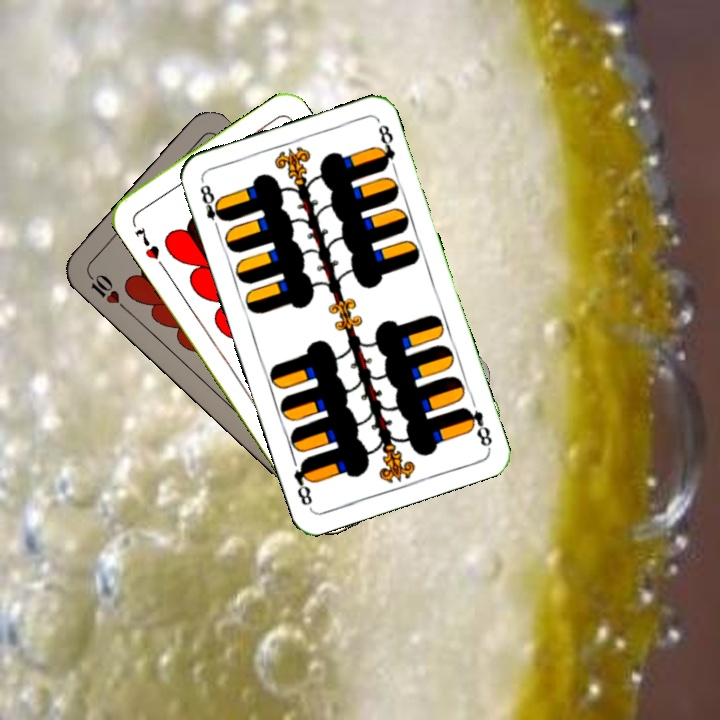E8: (196, 180, 229, 235), (459, 403, 495, 451)
H10: (82, 267, 129, 314)
H7: (130, 223, 162, 263)
